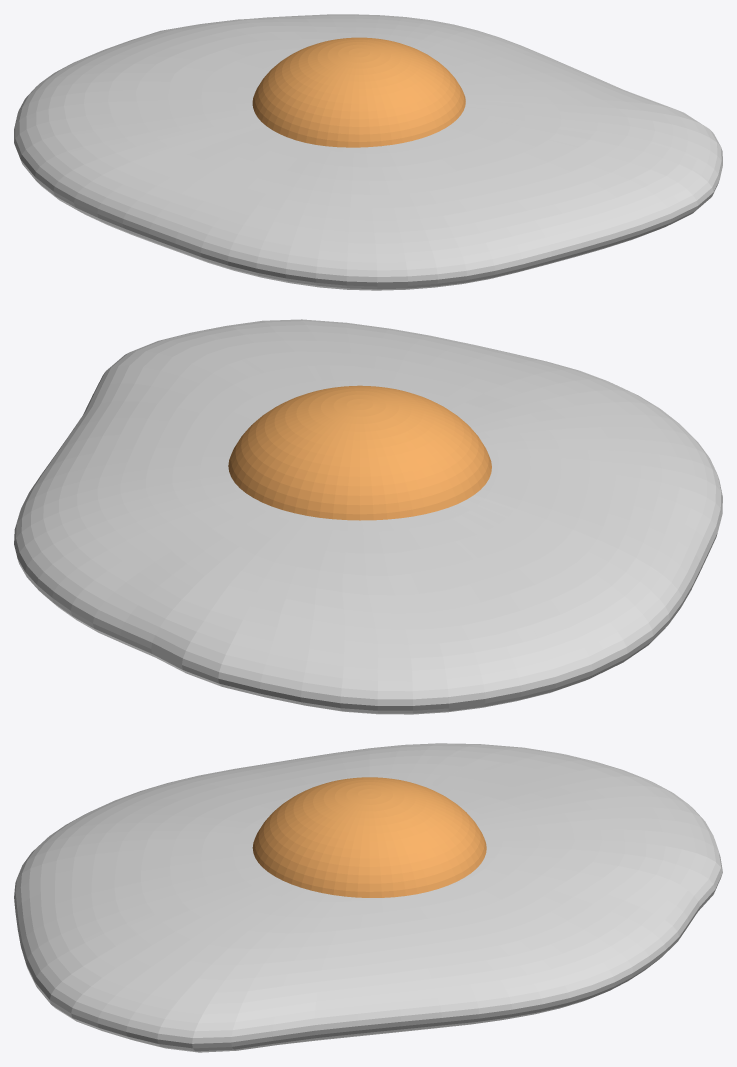
Rendered from FriedEgg.fbx.
3 renders of one model, top to bottom at view 1: azimuth 30°, elevation 25°; view 2: azimuth 150°, elevation 25°; view 3: azimuth 270°, elevation 25°, orthographic. The views are drawn at different scales.
Parts seen in each view (by area): view 1: Sphere; view 2: Sphere; view 3: Sphere.
Boxes of the visible parts, bbox=[...] form: Sphere: bbox=[14, 14, 722, 290]; Sphere: bbox=[14, 319, 722, 714]; Sphere: bbox=[14, 743, 722, 1052].
Size of the model in its own units: 268 by 65.44 by 274.
